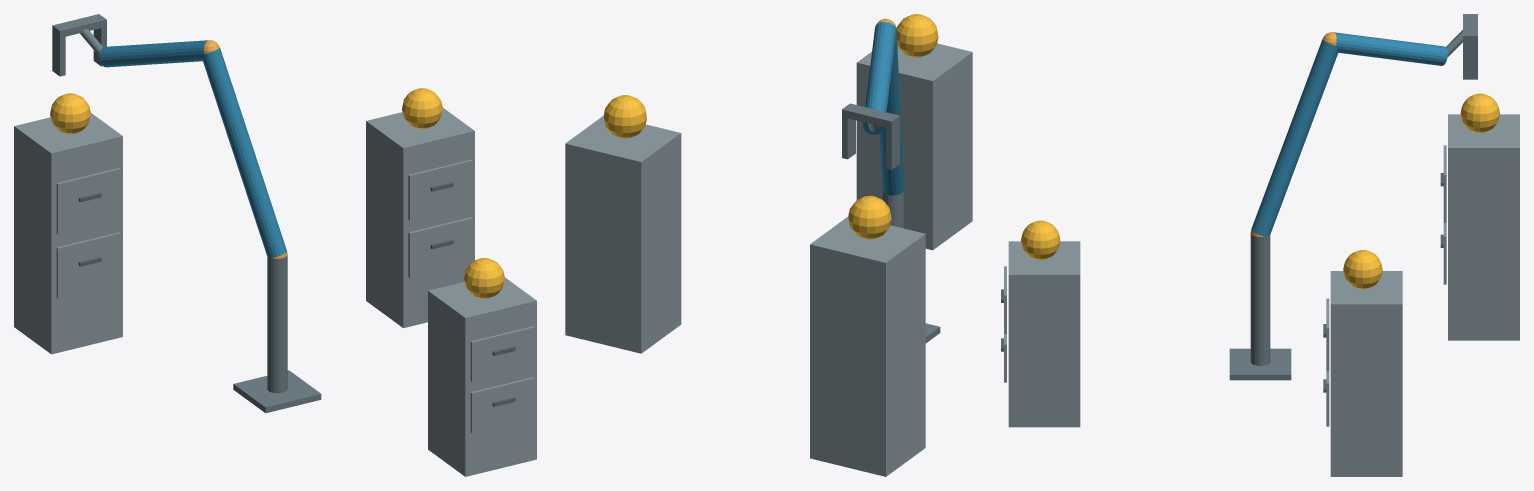
3 views of the same model, side by side, from view 1: azimuth 30°, elevation 25°; view 2: azimuth 150°, elevation 25°; view 3: azimuth 270°, elevation 25° (orthographic). The views are drawn at different scales.
Visible parts, largest first — view 1: cabinet_3 body, cabinet_1 body, cabinet_2 body, moving link 1, cabinet_3 drawer front.001, cabinet_3 drawer front, cabinet_2 drawer front.001, cabinet_2 drawer front, fixed post, cabinet_1 drawer front, cabinet_1 drawer front.001, moving link 2 (+6 smaller); view 2: cabinet_3 body, cabinet_2 body, cabinet_1 body, moving link 2, moving link 1, ball ball_3, released ball_2, released ball_1, gripper bridge, fixed post, gripper finger -1, gripper finger 1; view 3: cabinet_3 body, cabinet_2 body, cabinet_1 body, moving link 1, fixed post, moving link 2, pedestal, ball ball_3, released ball_1, released ball_2, gripper finger 1.
Boxes of the visible parts, x1,y1,x2,y2 form: cabinet_3 body: [14, 113, 122, 354]; cabinet_1 body: [428, 277, 536, 476]; cabinet_2 body: [366, 107, 474, 327]; moving link 1: [202, 47, 286, 257]; cabinet_3 drawer front.001: [56, 168, 120, 234]; cabinet_3 drawer front: [56, 232, 120, 298]; cabinet_2 drawer front.001: [408, 159, 472, 220]; cabinet_2 drawer front: [408, 217, 472, 278]; fixed post: [267, 255, 287, 393]; cabinet_1 drawer front: [470, 377, 534, 432]; cabinet_1 drawer front.001: [470, 326, 534, 382]; moving link 2: [99, 40, 207, 67]; cabinet_3 body: [810, 217, 925, 476]; cabinet_2 body: [565, 116, 681, 353]; cabinet_1 body: [856, 43, 972, 250]; moving link 2: [863, 21, 896, 134]; moving link 1: [880, 27, 904, 195]; ball ball_3: [848, 195, 891, 239]; released ball_2: [603, 95, 646, 138]; released ball_1: [896, 14, 938, 57]; gripper bridge: [842, 103, 899, 128]; fixed post: [882, 189, 904, 228]; gripper finger -1: [886, 123, 899, 169]; gripper finger 1: [842, 117, 855, 159]; cabinet_3 body: [1448, 114, 1519, 340]; cabinet_2 body: [1330, 271, 1402, 476]; cabinet_1 body: [1008, 241, 1080, 427]; moving link 1: [1251, 39, 1338, 236]; fixed post: [1250, 233, 1270, 365]; moving link 2: [1334, 32, 1447, 65]; pedestal: [1229, 348, 1291, 380]; ball ball_3: [1460, 93, 1499, 132]; released ball_1: [1021, 220, 1060, 259]; released ball_2: [1343, 250, 1382, 289]; gripper finger 1: [1463, 42, 1477, 79].
Size of the model in its own units: 1.62 by 1.43 by 2.1.
